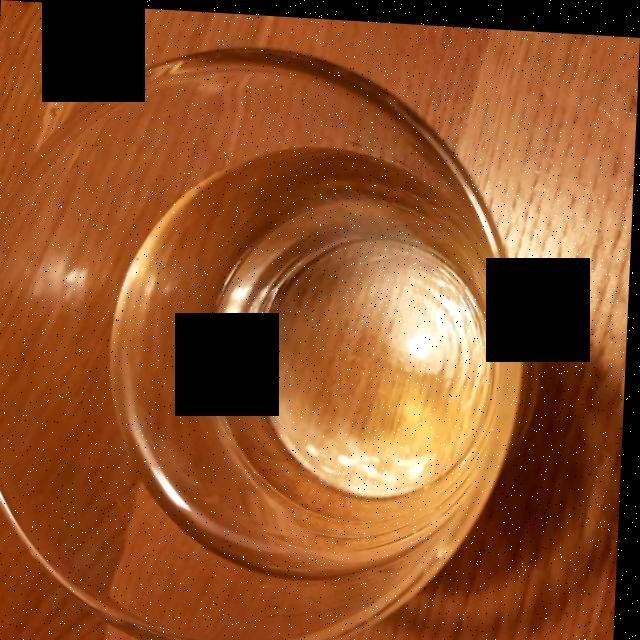water: (112, 139, 507, 564)
